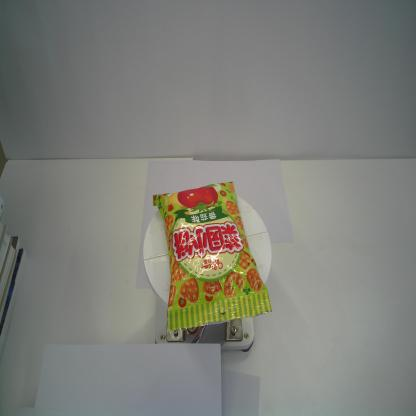Puffed Food: (152, 181, 271, 332)
